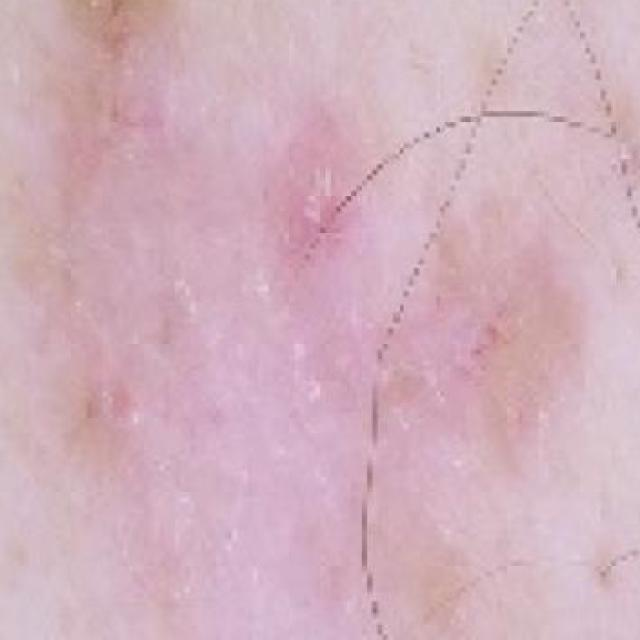BCC: (9, 44, 558, 640)
